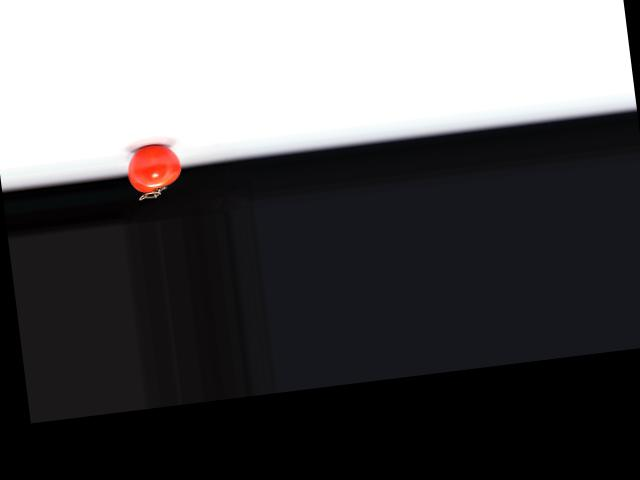tomato: (125, 141, 184, 194)
